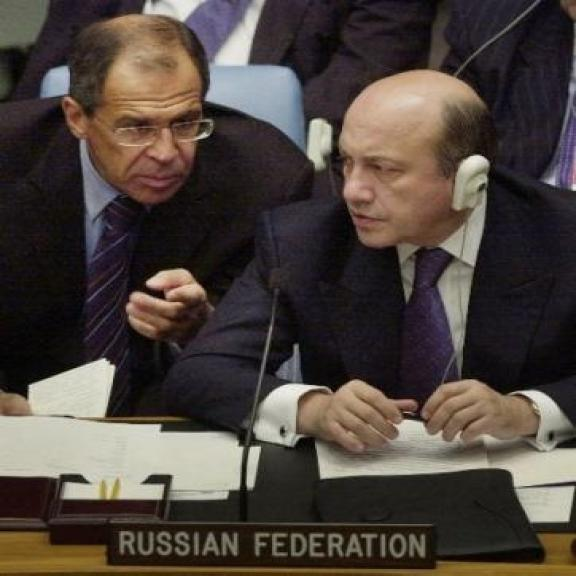face: (58, 70, 203, 206)
